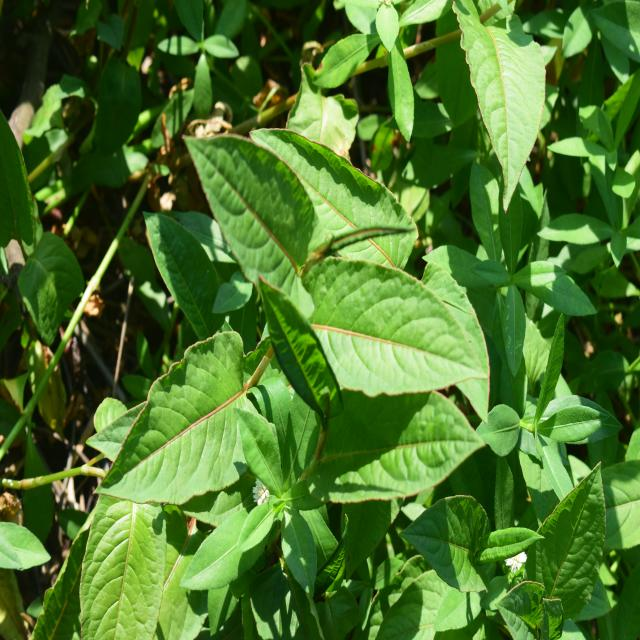Chinese_knotweed: (177, 119, 467, 509)
